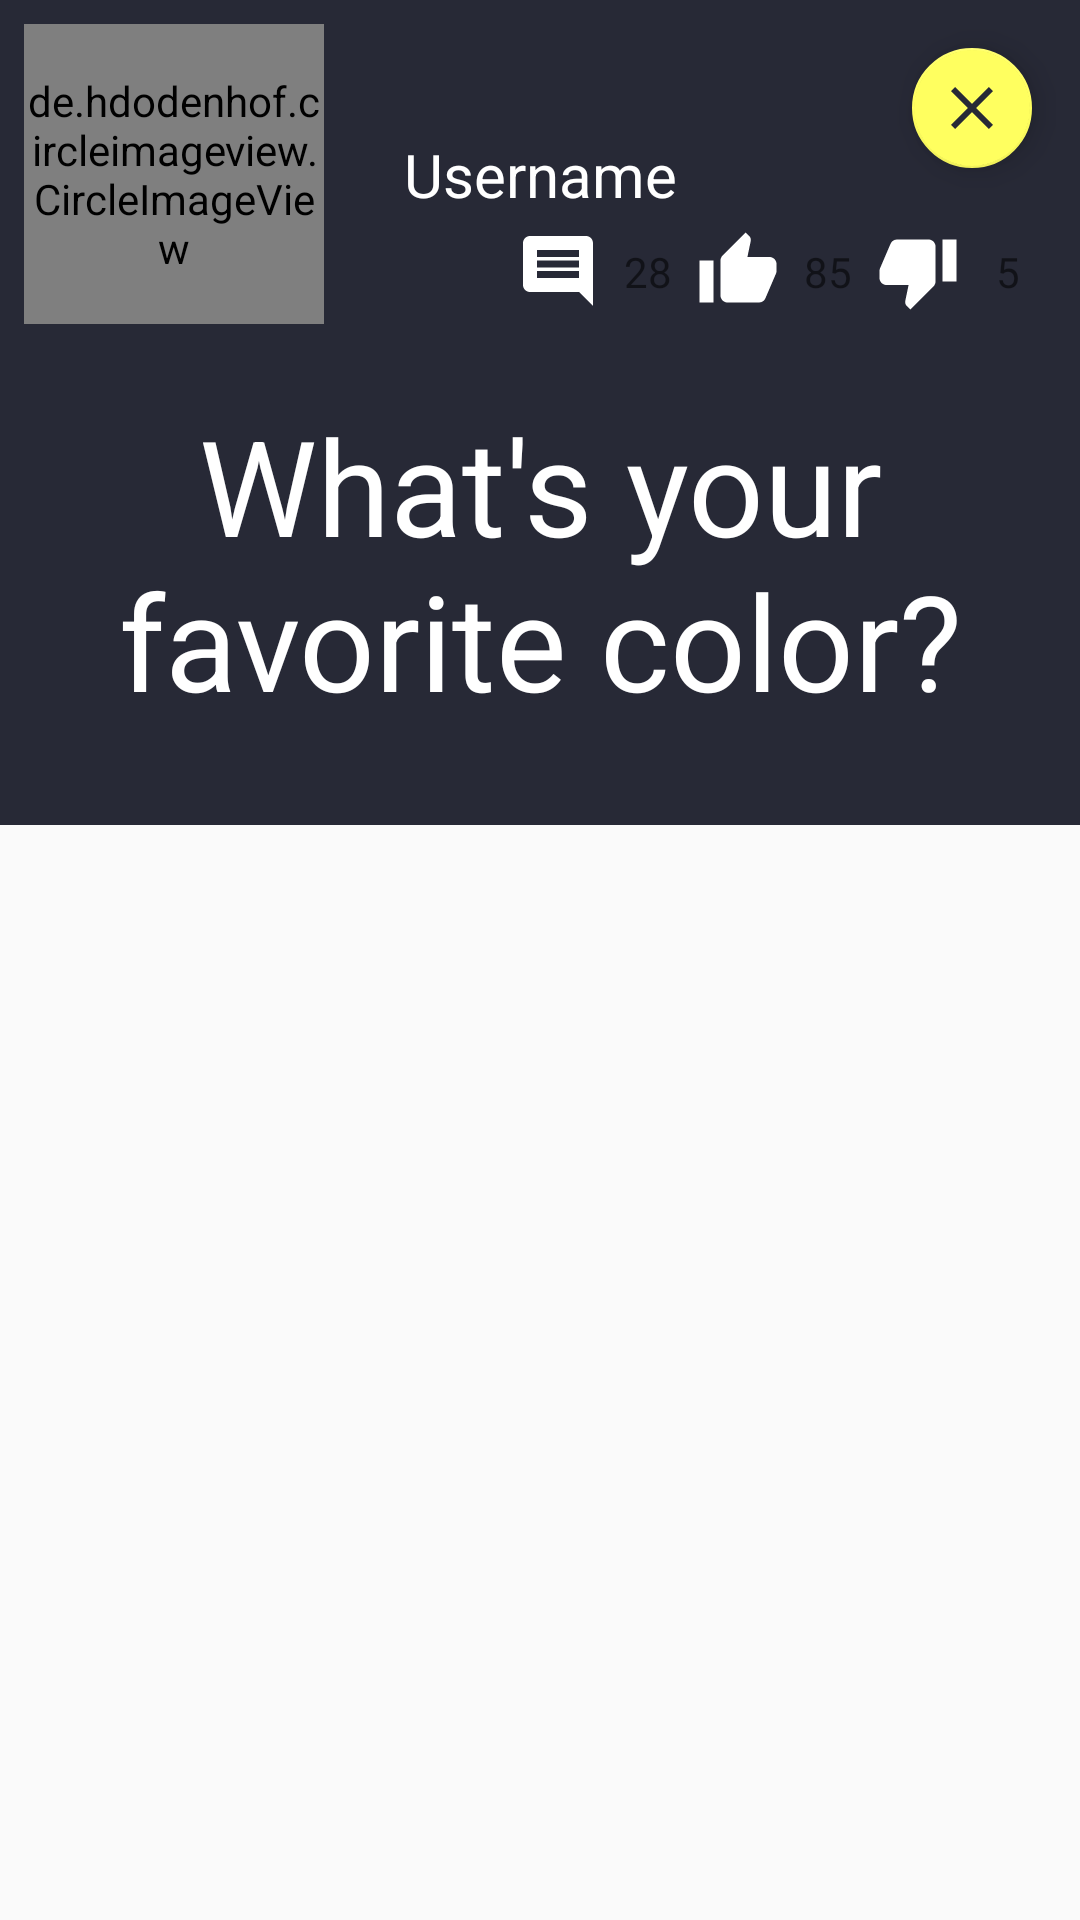

Where to tap for icons on this 1080 × 1920 app screen, as [x,y]:
close: [972,108]
comment: [558,271]
thumb down: [918,274]
thumb up: [738,267]
